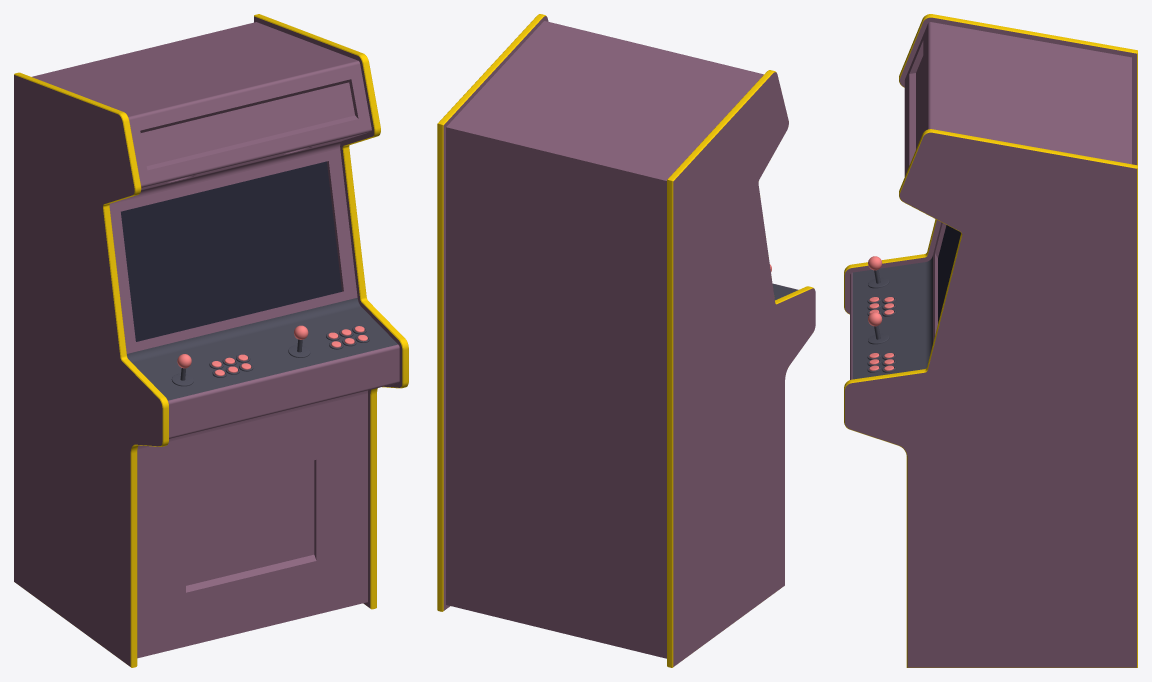
The model's file is cabinet.glb.
The picture shows the model from 3 angles, left to right: view 1: azimuth 30°, elevation 25°; view 2: azimuth 150°, elevation 25°; view 3: azimuth 270°, elevation 25°; orthographic projection. The views are drawn at different scales.
Visible parts, largest first — view 1: side_panel, coindoor_frame, screen, cabinet_body, coindoor, cp_surface, tmolding, marquee_frame, bezel, marquee_art, button_ring; view 2: cabinet_body, side_panel, tmolding; view 3: side_panel, cabinet_body, cp_surface, tmolding, marquee_frame, screen, marquee_art, bezel, button_ring.
Part boxes in pixels (bbox=[...]): side_panel: bbox=[14, 16, 402, 666]; coindoor_frame: bbox=[137, 393, 367, 658]; screen: bbox=[121, 161, 341, 341]; cabinet_body: bbox=[32, 22, 399, 449]; coindoor: bbox=[186, 460, 314, 585]; cp_surface: bbox=[127, 297, 397, 400]; tmolding: bbox=[14, 14, 408, 667]; marquee_frame: bbox=[129, 64, 371, 184]; bezel: bbox=[109, 148, 357, 353]; marquee_art: bbox=[141, 82, 354, 165]; button_ring: bbox=[209, 325, 369, 377]; cabinet_body: bbox=[446, 21, 798, 658]; side_panel: bbox=[443, 16, 815, 666]; tmolding: bbox=[437, 14, 814, 667]; side_panel: bbox=[845, 17, 1136, 667]; cabinet_body: bbox=[850, 22, 1131, 379]; cp_surface: bbox=[852, 256, 932, 379]; tmolding: bbox=[844, 14, 1137, 667]; marquee_frame: bbox=[905, 25, 927, 175]; screen: bbox=[938, 225, 960, 323]; marquee_art: bbox=[916, 56, 923, 149]; bezel: bbox=[933, 222, 946, 342]; button_ring: bbox=[867, 296, 896, 372].
Bounding box in the file's own units: 0.671 × 1.42 × 0.7048.
